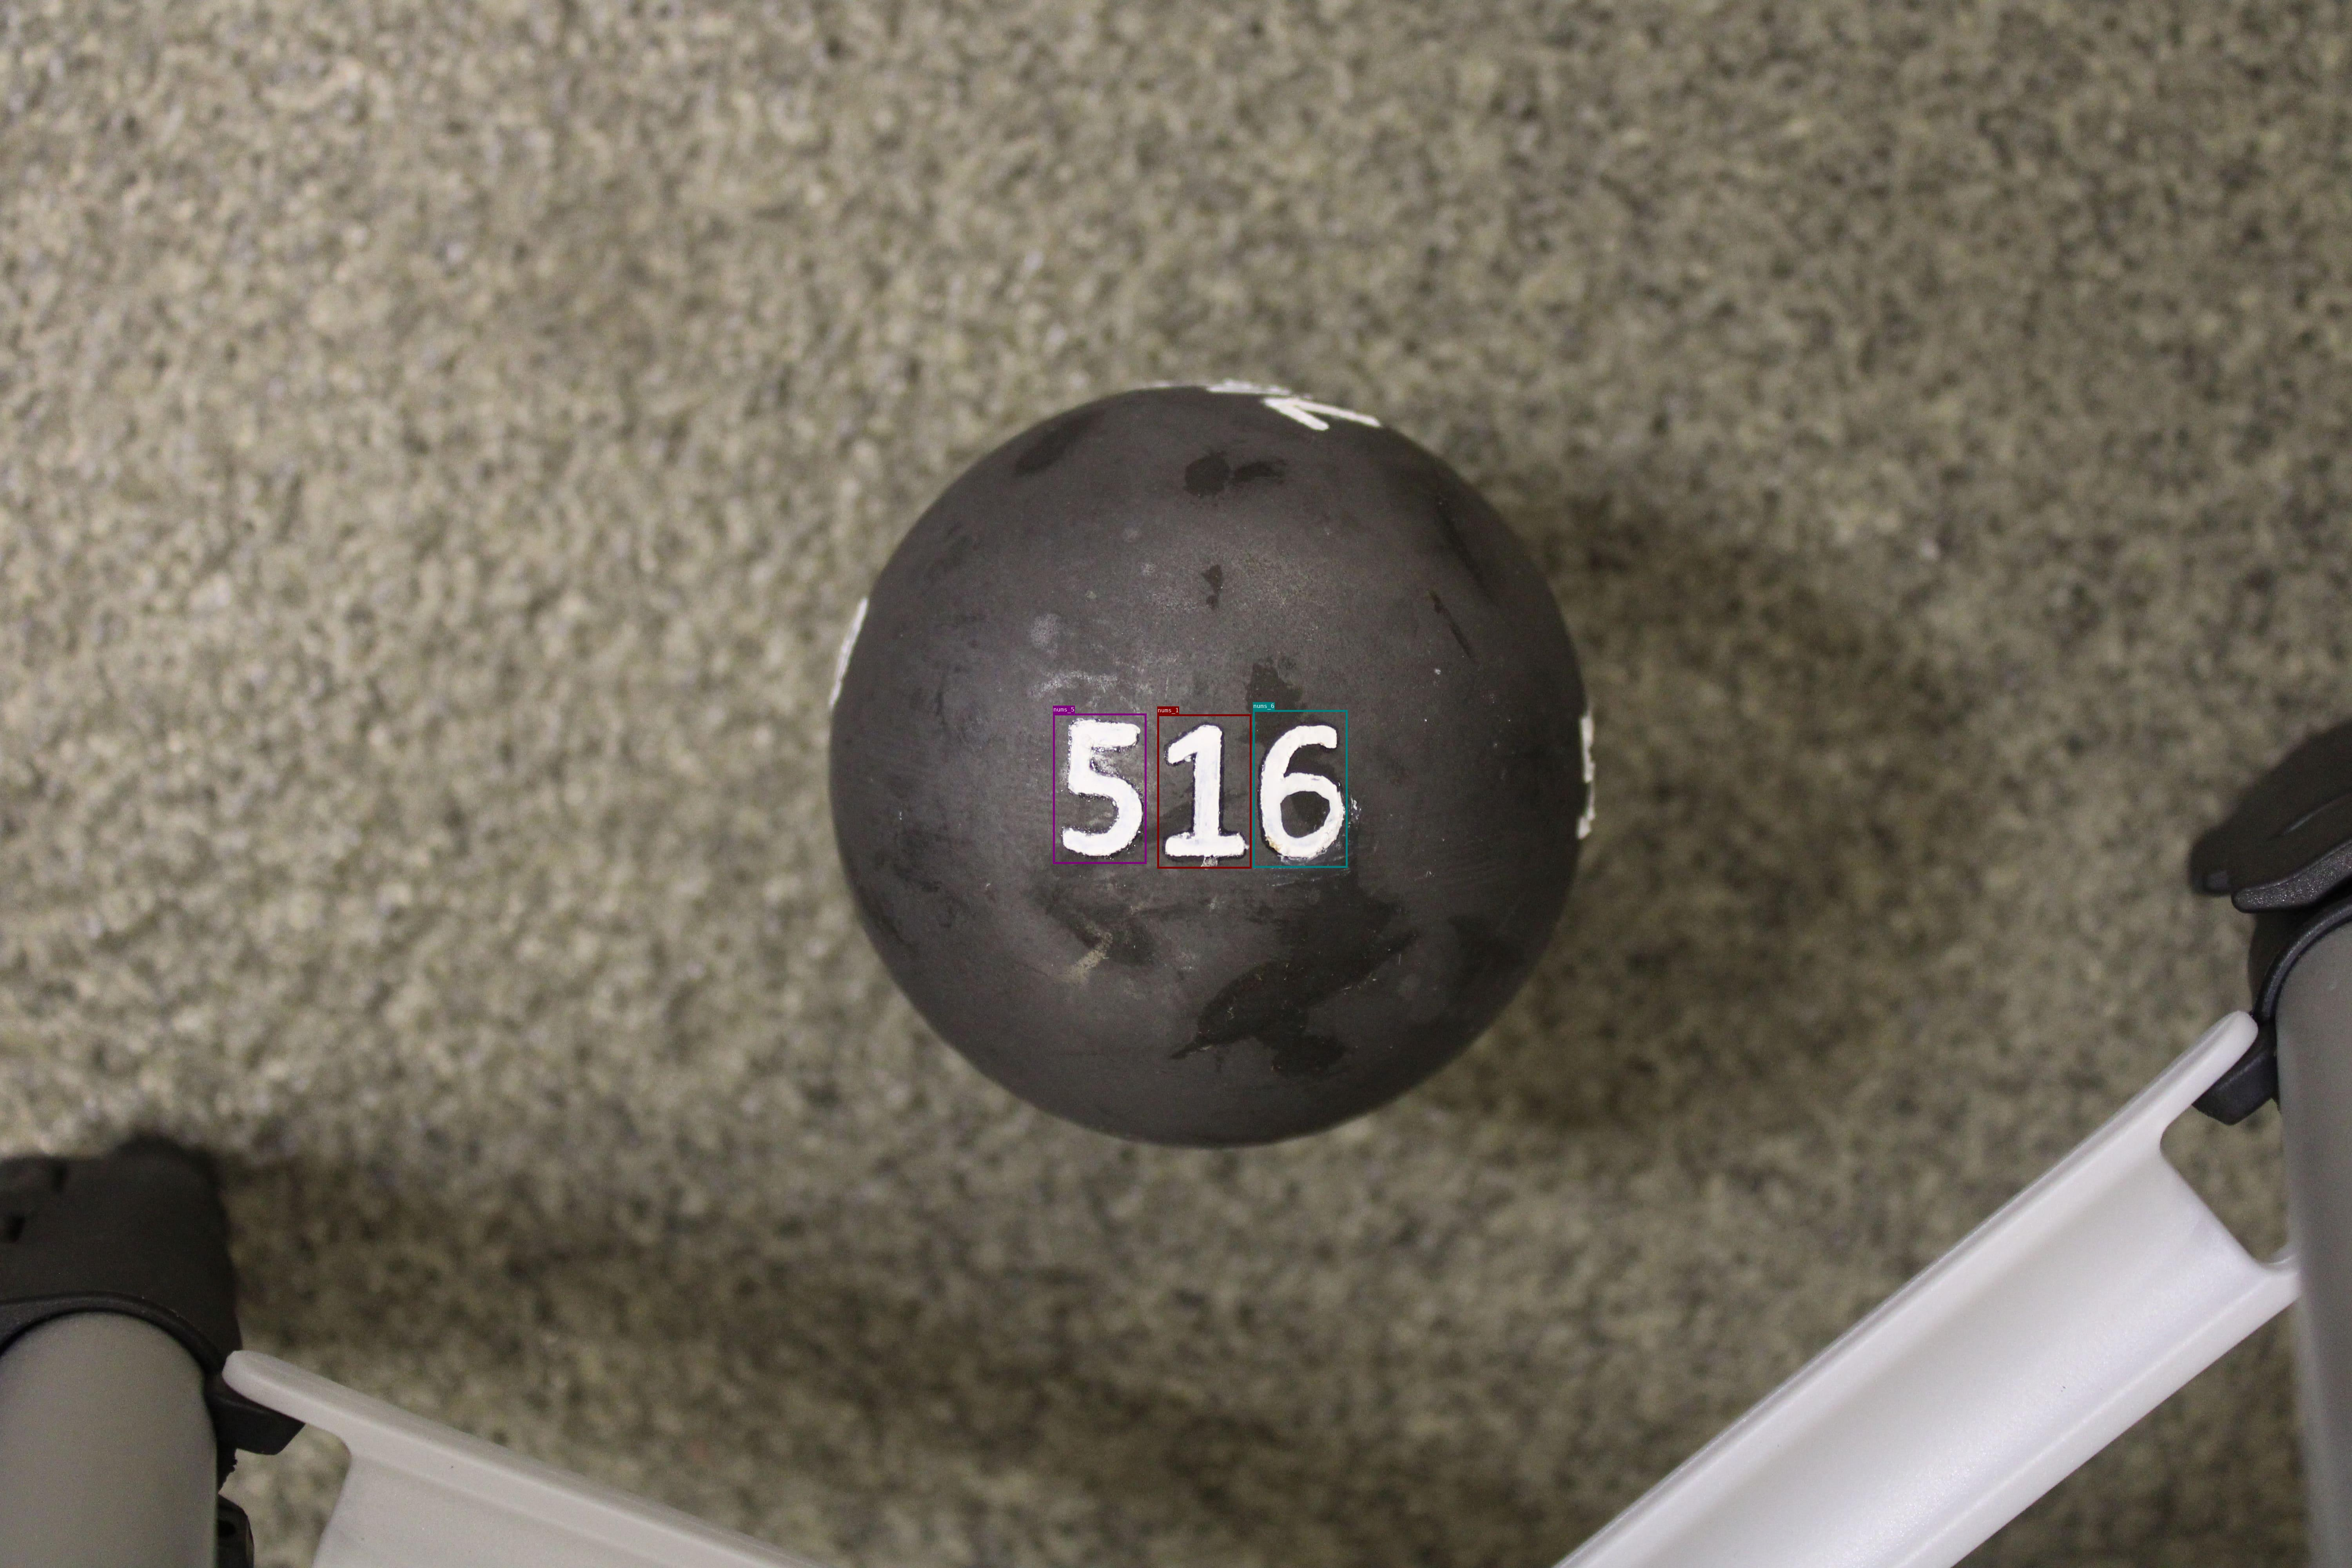nums_1: (1157, 714, 1251, 868)
nums_5: (1053, 714, 1146, 863)
nums_6: (1253, 710, 1347, 868)
